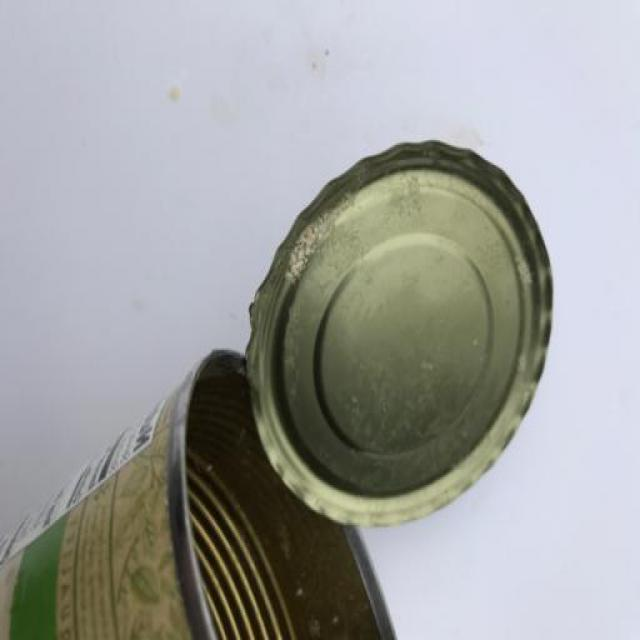metal: (1, 134, 556, 632)
